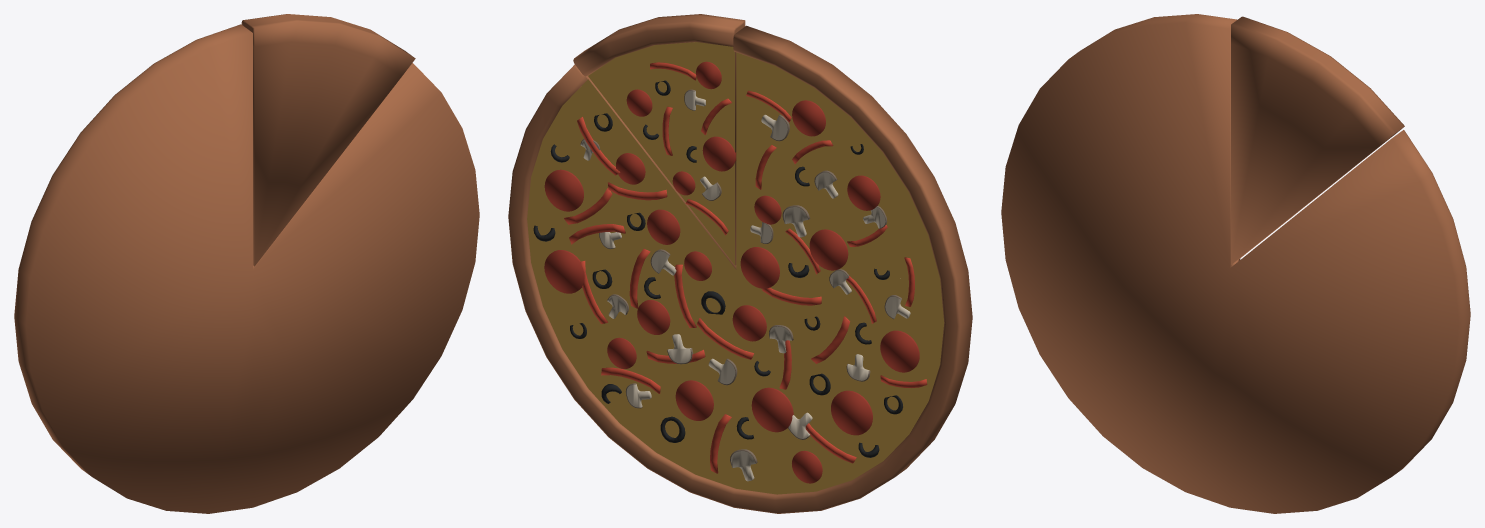
The model's file is pizza_rootss155.fbx.
3 renders of one model, left to right at view 1: azimuth 30°, elevation 25°; view 2: azimuth 150°, elevation 25°; view 3: azimuth 330°, elevation 25°, orthographic.
Parts seen in each view (by area): view 1: pizza_sh_12, pizza_sh_10, pizza_sh_20, pizza_sh_15, pizza_sh_18, pizza_sh_11, pizza_sh_14, pizza_sh_21, pizza_sh_13, pizza_sh_4, pizza_sh_9, pizza_sh_17 (+8 smaller); view 2: pizza_sh_12, pizza_sh_10, pizza_sh_20, pizza_sh_11, pizza_sh_15, pizza_sh_18, pizza_sh_21, pizza_sh_14, pizza_sh_9, pizza_sh_13, pizza_sh_4, pizza_sh_17 (+30 smaller); view 3: pizza_sh_12, pizza_sh_10, pizza_sh_15, pizza_sh_11, pizza_sh_20, pizza_sh_18, pizza_sh_14, pizza_sh_13, pizza_sh_4, pizza_sh_9, pizza_sh_21, pizza_sh_17 (+8 smaller).
Boxes of the visible parts, x1,y1,x2,y2 form: pizza_sh_12: (15, 232, 285, 489); pizza_sh_10: (213, 356, 440, 502); pizza_sh_20: (72, 96, 195, 281); pizza_sh_15: (294, 137, 479, 336); pizza_sh_18: (177, 171, 337, 352); pizza_sh_11: (285, 229, 478, 367); pizza_sh_14: (307, 92, 464, 227); pizza_sh_21: (14, 145, 82, 335); pizza_sh_13: (184, 44, 252, 201); pizza_sh_4: (269, 78, 388, 198); pizza_sh_9: (32, 404, 215, 513); pizza_sh_17: (114, 32, 228, 144); pizza_sh_12: (705, 233, 971, 487); pizza_sh_10: (547, 357, 775, 506); pizza_sh_20: (794, 95, 916, 280); pizza_sh_11: (508, 218, 705, 366); pizza_sh_15: (508, 141, 684, 319); pizza_sh_18: (656, 171, 813, 353); pizza_sh_21: (901, 150, 972, 338); pizza_sh_14: (522, 93, 682, 224); pizza_sh_9: (770, 408, 952, 513); pizza_sh_13: (736, 44, 805, 201); pizza_sh_4: (601, 79, 712, 197); pizza_sh_17: (757, 34, 870, 146); pizza_sh_12: (1002, 192, 1262, 470); pizza_sh_10: (1190, 382, 1430, 504); pizza_sh_15: (1272, 231, 1470, 355); pizza_sh_11: (1262, 317, 1470, 447); pizza_sh_20: (1056, 31, 1171, 195); pizza_sh_18: (1153, 167, 1314, 366); pizza_sh_14: (1285, 157, 1456, 266); pizza_sh_13: (1161, 28, 1230, 170); pizza_sh_4: (1245, 115, 1374, 222); pizza_sh_9: (1021, 313, 1192, 494); pizza_sh_21: (1001, 71, 1057, 223); pizza_sh_17: (1104, 14, 1217, 107).
Bounding box in the file's own units: 874 × 882 × 49.5.
Materials: 2 (1 with a texture image).
